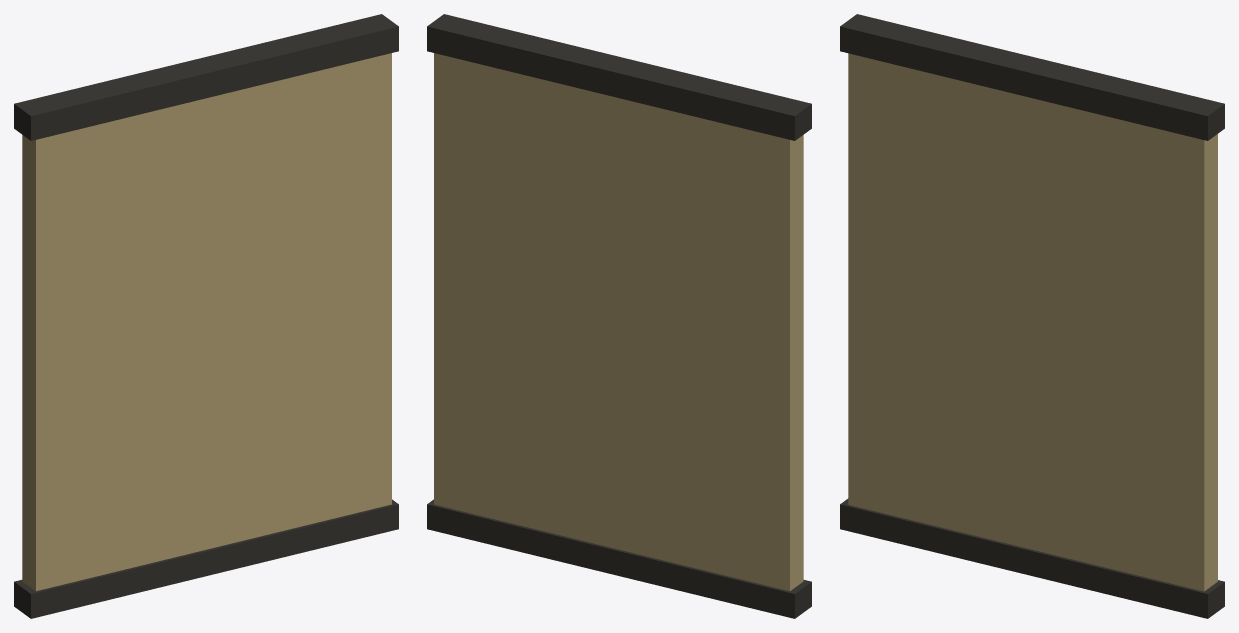
The model's file is wall with trimming (DoNotUse).fbx.
The picture shows the model from 3 angles, left to right: view 1: azimuth 30°, elevation 25°; view 2: azimuth 150°, elevation 25°; view 3: azimuth 330°, elevation 25°; orthographic projection.
Parts seen in each view (by area): view 1: polySurface7; view 2: polySurface7; view 3: polySurface7.
Part boxes in pixels (bbox=[...]): polySurface7: bbox=[14, 14, 398, 618]; polySurface7: bbox=[427, 14, 811, 618]; polySurface7: bbox=[840, 14, 1224, 618].
Size of the model in its own units: 15.5 by 20.24 by 1.24.
